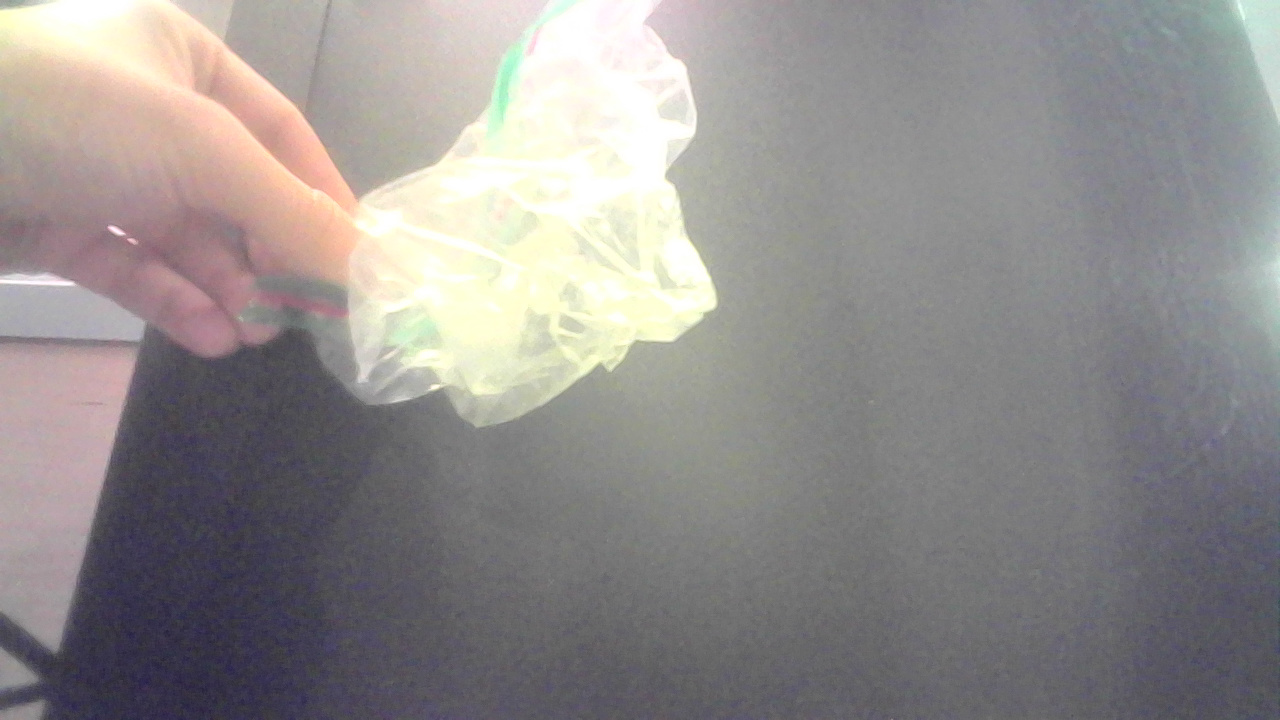Plastic_Recycling: (222, 14, 738, 448)
